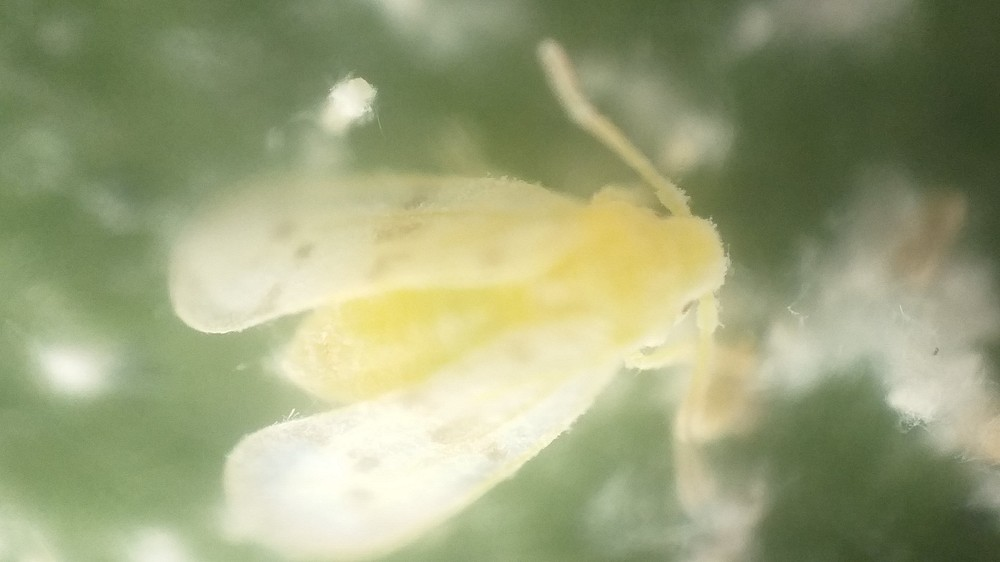Mosca Blanca: (164, 40, 746, 562)
